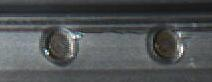joints: (39, 23, 80, 68), (146, 25, 185, 65)
